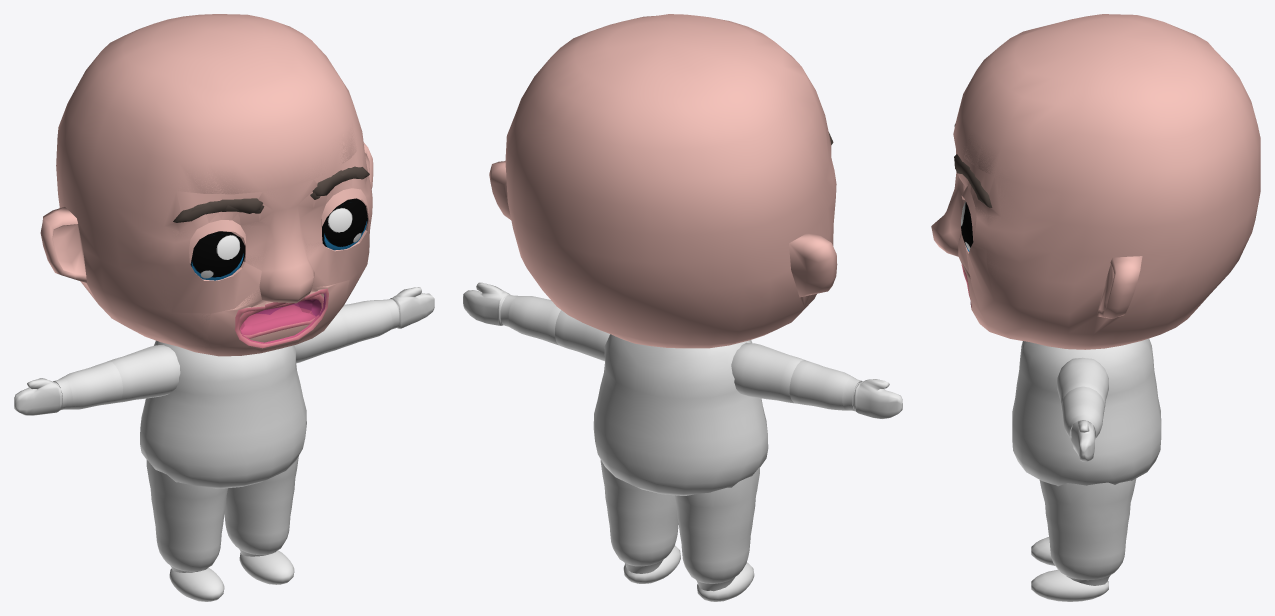
Rendered from BabyCharacter1.FBX.
3 renders of one model, left to right at view 1: azimuth 30°, elevation 25°; view 2: azimuth 150°, elevation 25°; view 3: azimuth 270°, elevation 25°, orthographic. The views are drawn at different scales.
Parts seen in each view (by area): view 1: HeadHappy1, HeadSad, Body001, LegR, LegL, UpperArmR, ForeArmR, Eye004, ForeArmL, Eye002, OpenHandR, FootR (+5 smaller); view 2: HeadHappy1, HeadSad, Body001, LegR, LegL, UpperArmR, ForeArmR, ForeArmL, UpperArmL, OpenHandR, OpenHandL, FootR (+1 smaller); view 3: HeadHappy1, HeadSad, Body001, LegL, FootL, UpperArmL, ForeArmL, OpenHandL.
Boxes of the visible parts, x1,y1,x2,y2 form: HeadHappy1: (40, 14, 372, 356); HeadSad: (40, 41, 373, 355); Body001: (140, 340, 306, 488); LegR: (146, 460, 227, 572); LegL: (224, 456, 298, 556); UpperArmR: (107, 345, 180, 402); ForeArmR: (53, 361, 122, 410); Eye004: (190, 231, 244, 280); ForeArmL: (340, 299, 399, 346); Eye002: (322, 198, 367, 250); OpenHandR: (14, 378, 62, 415); FootR: (169, 567, 224, 601); HeadHappy1: (489, 14, 836, 347); HeadSad: (545, 90, 837, 348); Body001: (593, 334, 768, 495); LegR: (675, 467, 759, 591); LegL: (600, 460, 678, 573); UpperArmR: (731, 342, 805, 403); ForeArmR: (789, 360, 862, 411); ForeArmL: (500, 295, 560, 345); UpperArmL: (555, 310, 609, 361); OpenHandR: (852, 379, 902, 418); OpenHandL: (463, 282, 510, 325); FootR: (697, 562, 754, 601); HeadHappy1: (931, 14, 1260, 349); HeadSad: (931, 74, 1245, 349); Body001: (1012, 338, 1161, 486); LegL: (1039, 478, 1136, 585); FootL: (1031, 569, 1108, 601); UpperArmL: (1057, 357, 1108, 409); ForeArmL: (1061, 386, 1104, 440); OpenHandL: (1071, 420, 1094, 461).
Bounding box in the file's own units: 3.39 × 2.28 × 4.15.
1 material, 1 textured.
